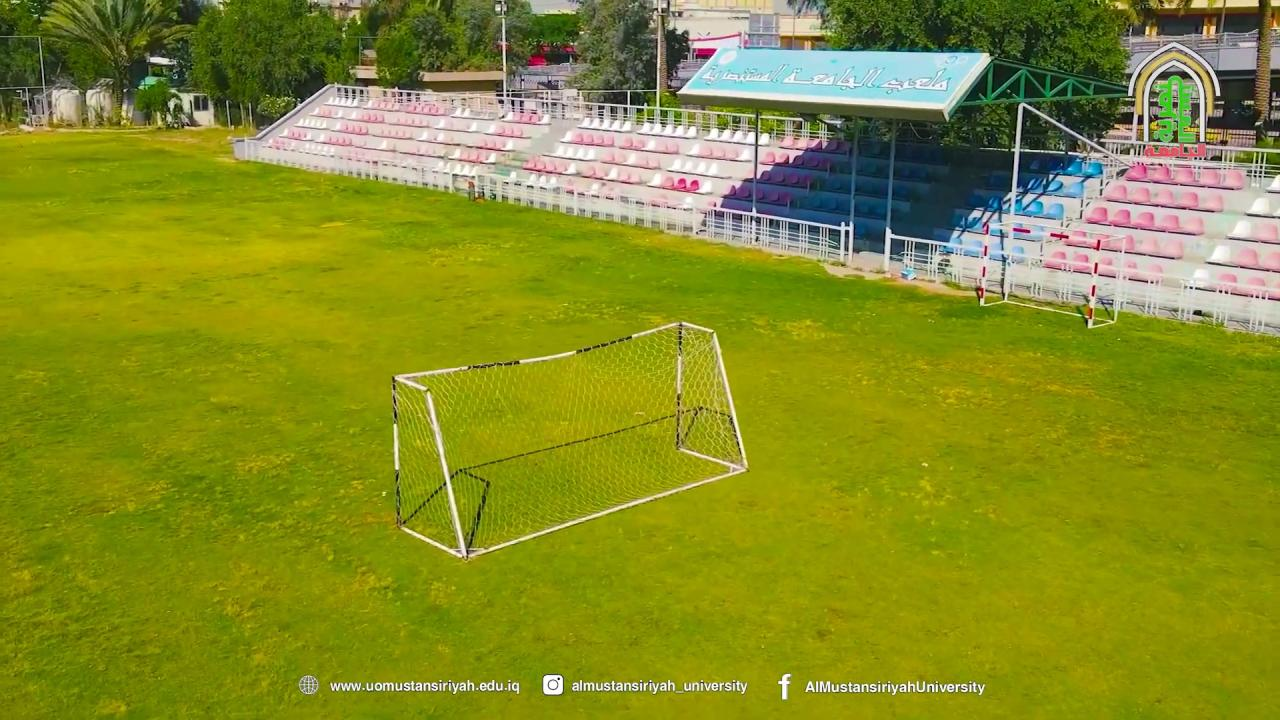tree: (815, 0, 1139, 150), (187, 0, 349, 129), (37, 0, 190, 127), (569, 0, 657, 114), (371, 4, 468, 92), (489, 0, 541, 105), (0, 0, 50, 89), (1251, 0, 1274, 134), (134, 77, 182, 127)
